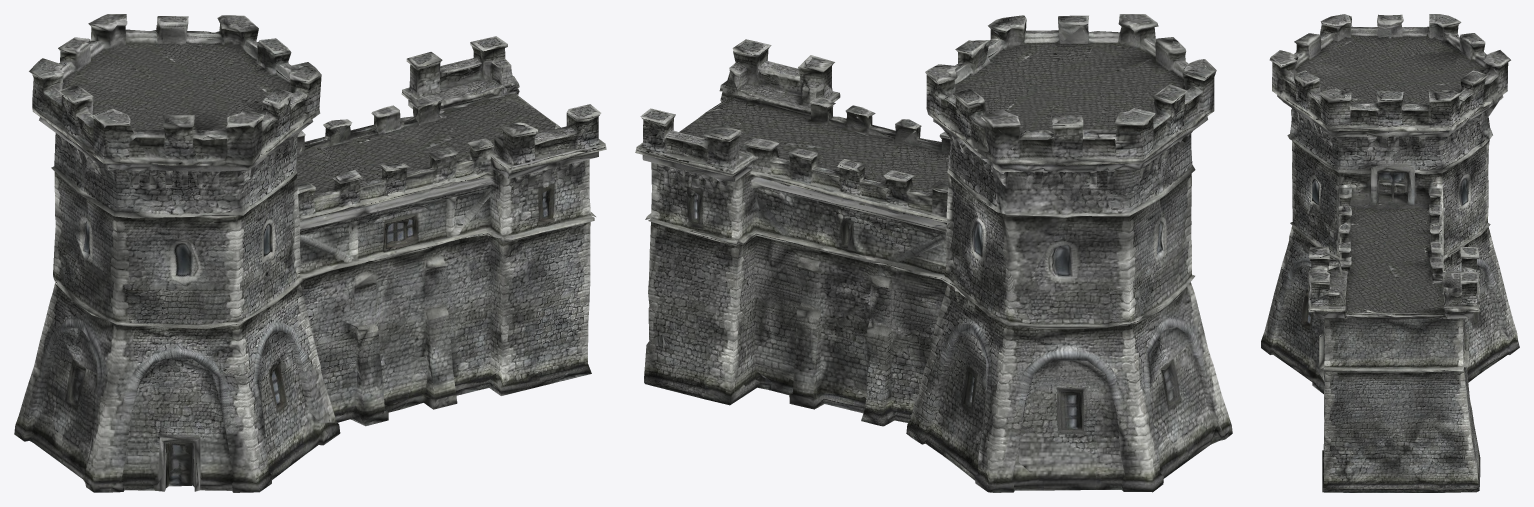
Rendered from keep_fortress.glb.
3 views of the same model, side by side, from view 1: azimuth 30°, elevation 25°; view 2: azimuth 150°, elevation 25°; view 3: azimuth 270°, elevation 25° (orthographic). The views are drawn at different scales.
Visible parts, largest first — view 1: keep_fortress; view 2: keep_fortress; view 3: keep_fortress.
Part boxes in pixels (x1,y1,x2,y2): keep_fortress: [14, 14, 606, 492]; keep_fortress: [635, 14, 1232, 492]; keep_fortress: [1261, 14, 1519, 492].
Bounding box in the file's own units: 1.9 × 1.32 × 1.06.
Materials: 1 (1 with a texture image).
